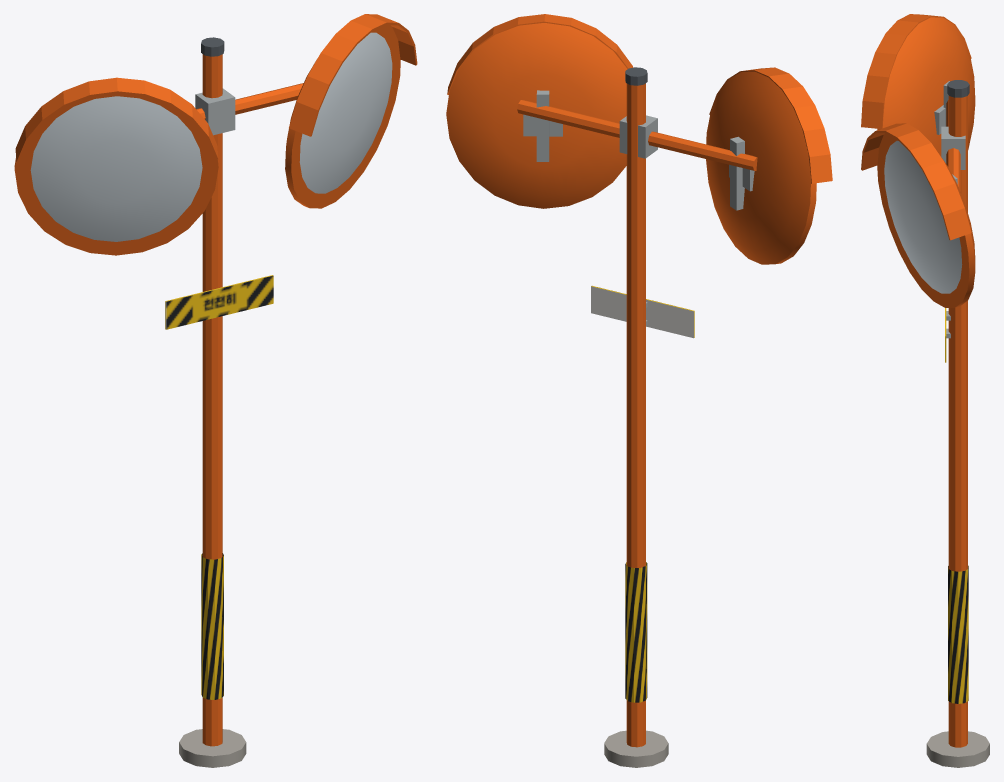
The model's file is SC_Util_Mirror_Convex_Double.gltf.
3 renders of one model, left to right at view 1: azimuth 30°, elevation 25°; view 2: azimuth 150°, elevation 25°; view 3: azimuth 270°, elevation 25°, orthographic. The views are drawn at different scales.
Visible parts, largest first — view 1: SC_Util_Mirror_Convex_Double; view 2: SC_Util_Mirror_Convex_Double; view 3: SC_Util_Mirror_Convex_Double.
Part boxes in pixels (x1,y1,x2,y2): SC_Util_Mirror_Convex_Double: (14,14,417,767); SC_Util_Mirror_Convex_Double: (446,14,832,767); SC_Util_Mirror_Convex_Double: (861,14,989,767).
Bounding box in the file's own units: 1.79 × 3.08 × 0.5303.
2 materials, 2 textured.
